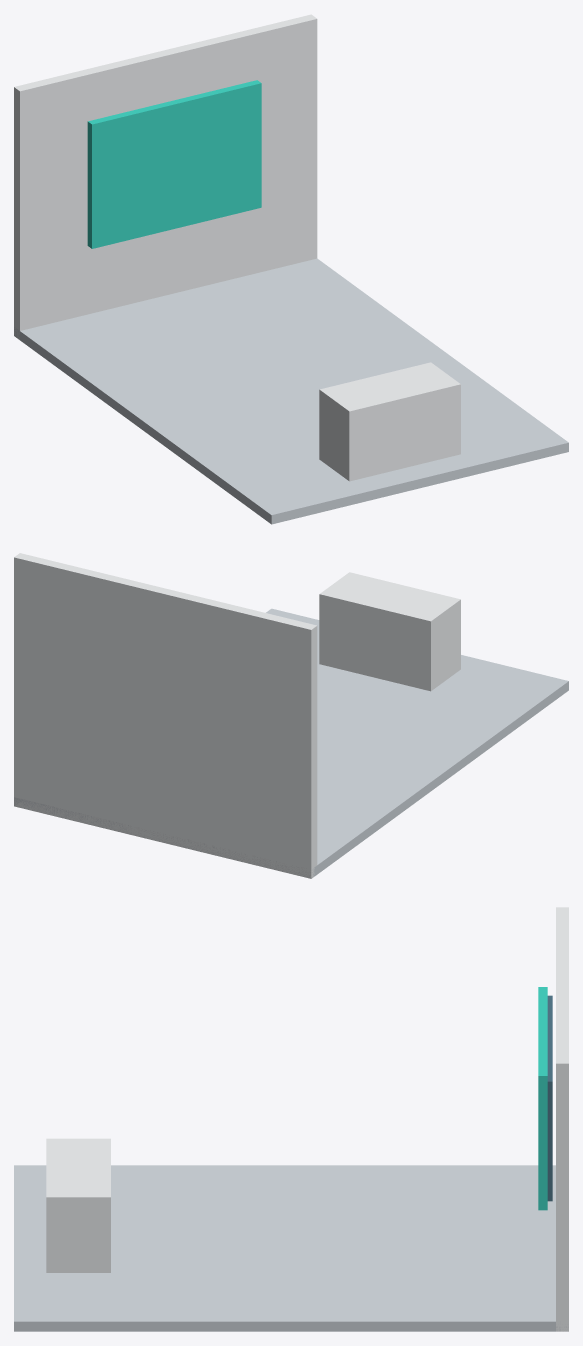
The picture shows the model from 3 angles, top to bottom: view 1: azimuth 30°, elevation 25°; view 2: azimuth 150°, elevation 25°; view 3: azimuth 270°, elevation 25°; orthographic projection. The views are drawn at different scales.
Visible parts, largest first — view 1: Exhibition Booth Concept; view 2: Exhibition Booth Concept; view 3: Exhibition Booth Concept.
Boxes of the visible parts, left/top/right/bottom form: Exhibition Booth Concept: left=14, top=14, right=568, bottom=524; Exhibition Booth Concept: left=14, top=553, right=568, bottom=878; Exhibition Booth Concept: left=14, top=907, right=568, bottom=1331.
Size of the model in its own units: 4 by 3.2 by 6.
